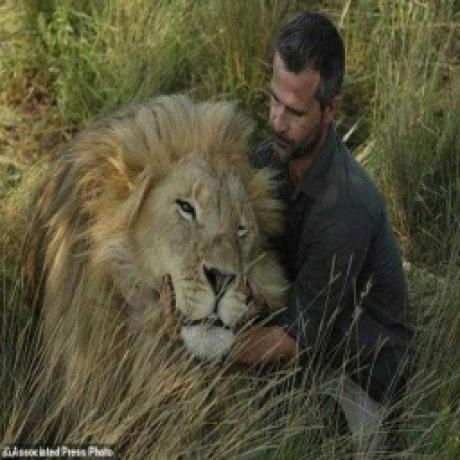Lion: (0, 92, 288, 404)
